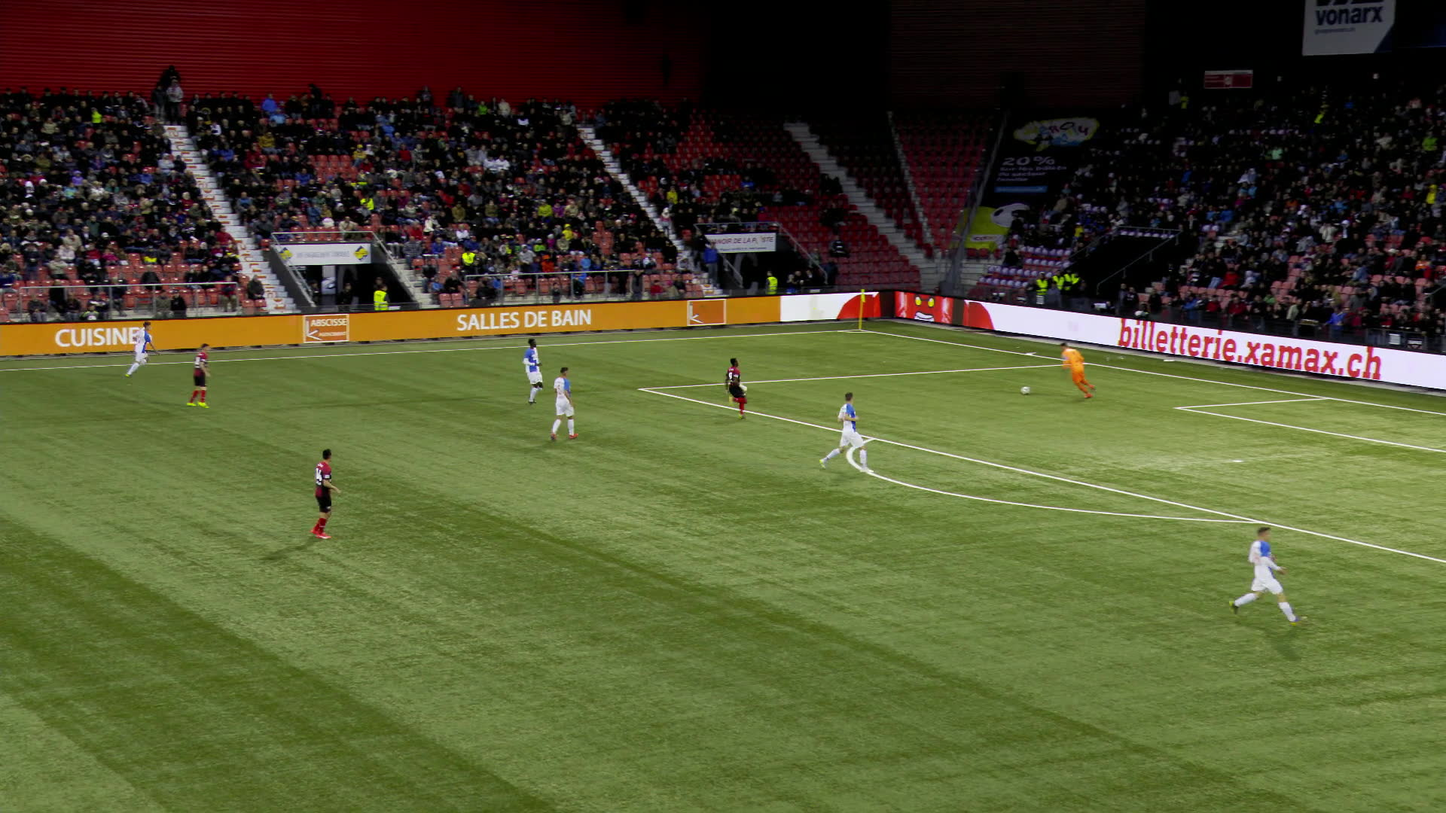ball: (1023, 386, 1032, 394)
player: (1229, 525, 1280, 623), (819, 388, 874, 470), (300, 449, 341, 538), (716, 358, 756, 417), (1060, 341, 1099, 397), (121, 323, 161, 376), (551, 367, 578, 441), (520, 338, 548, 405), (190, 343, 216, 408)
